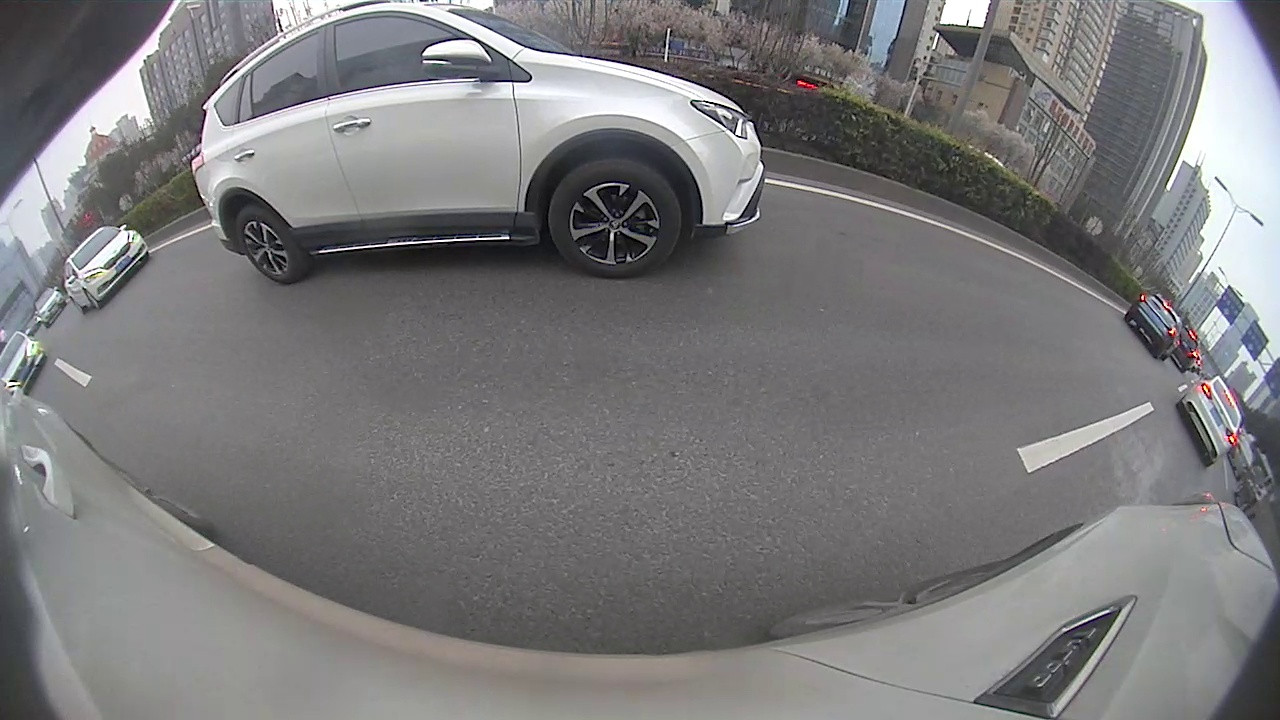car: (190, 2, 768, 285), (61, 223, 150, 315), (1176, 372, 1245, 469), (1124, 286, 1187, 362), (1, 327, 51, 396)
front: (548, 163, 684, 279)
rear: (238, 209, 296, 281)
